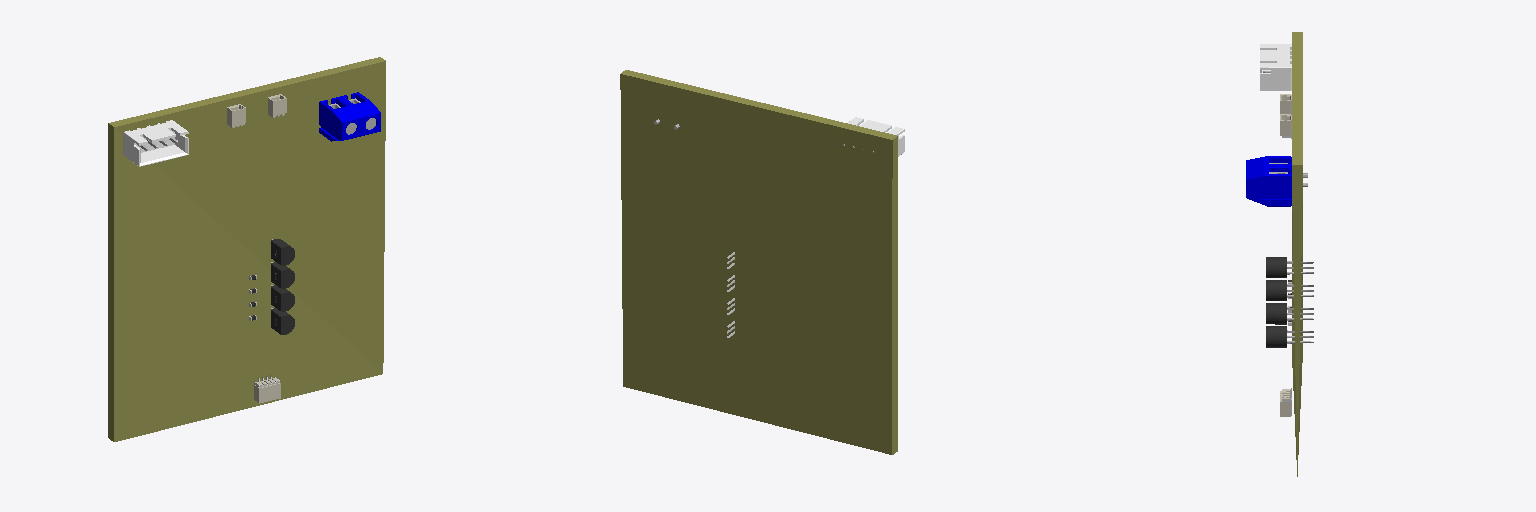
Rendered from OBJ_PCB_FFF_PCB_all_in_one.obj.
3 views of the same model, side by side, from view 1: azimuth 30°, elevation 25°; view 2: azimuth 150°, elevation 25°; view 3: azimuth 270°, elevation 25° (orthographic).
Size of the model in its own units: 272 by 301 by 59.45.